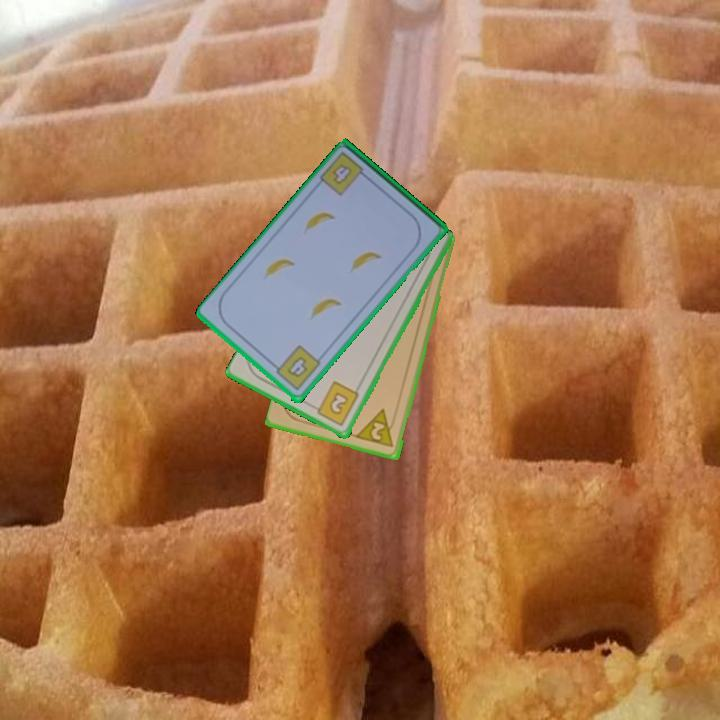2b: (309, 378, 362, 429)
2p: (354, 406, 398, 451)
4b: (269, 342, 323, 394), (329, 161, 355, 188)
